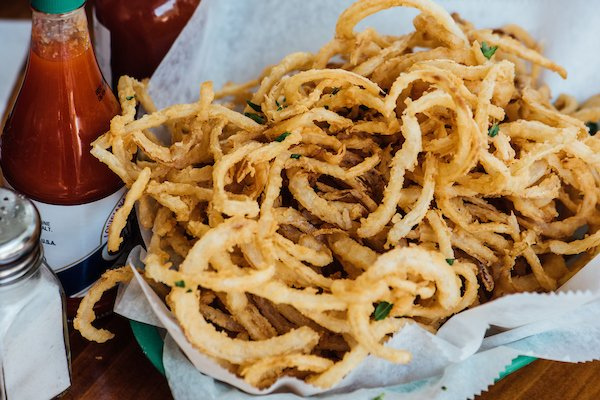pizza: (92, 0, 202, 87)
